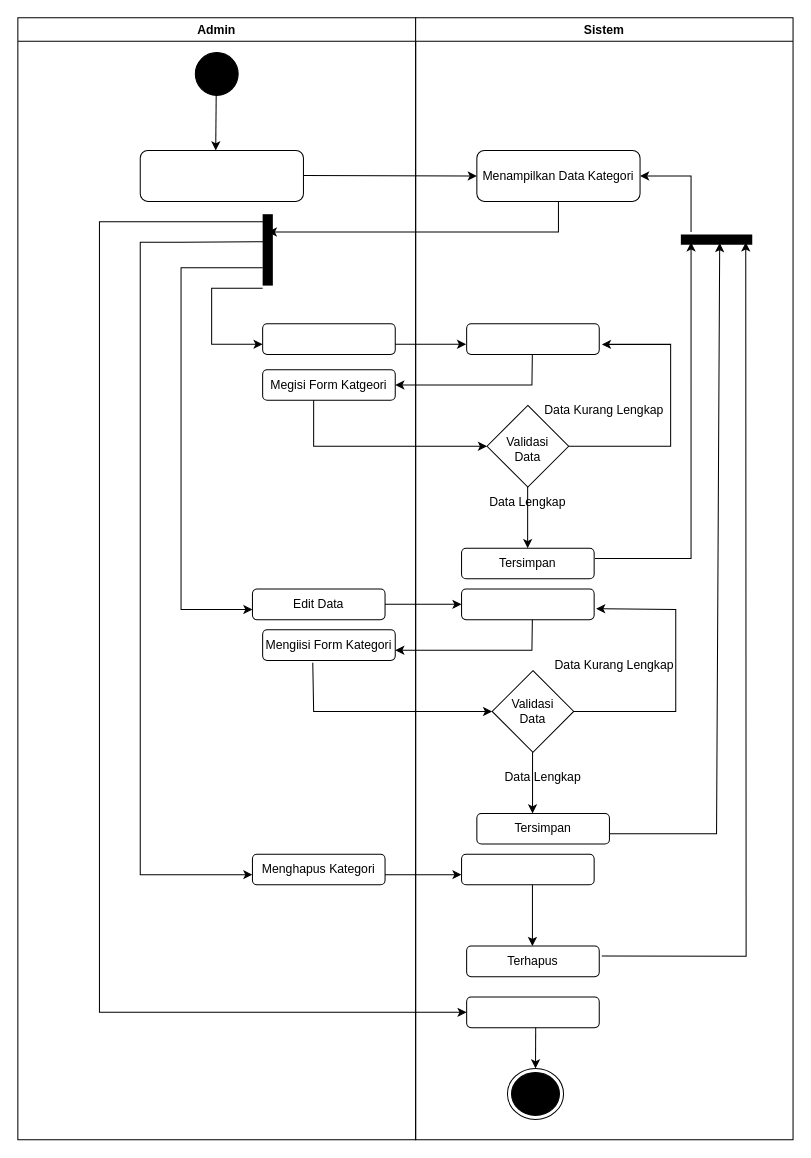
The diagram is 811 pixels wide and 1158 high, and some of its shapes have lost their labels. Here are the shapes that lost their labels. From the top down, the centre of each, then its label:
At (x=221, y=175): "Pengguna Memilih Data Kategori".
At (x=328, y=338): "Tambah Kategori".
At (x=532, y=338): "Menampilkan Form Tambah Kategori".
At (x=527, y=604): "Menampilkan Form Edit Kategori".
At (x=527, y=869): "Proses Hapus".
At (x=532, y=1012): "Proses Selesai".
